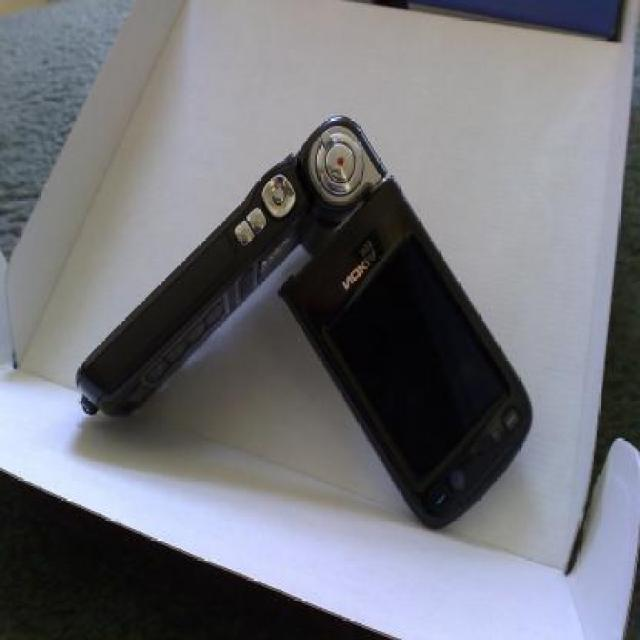phone: (95, 84, 544, 533)
